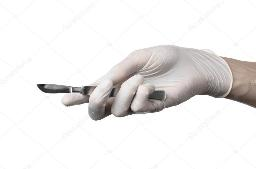scalpel: (36, 84, 166, 100)
